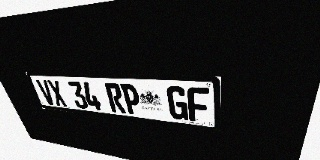3: (67, 81, 89, 109)
4: (80, 82, 102, 111)
F: (187, 87, 209, 123)
G: (166, 86, 188, 121)
P: (120, 84, 142, 115)
R: (104, 83, 126, 113)
V: (36, 80, 57, 105)
X: (46, 80, 68, 107)
